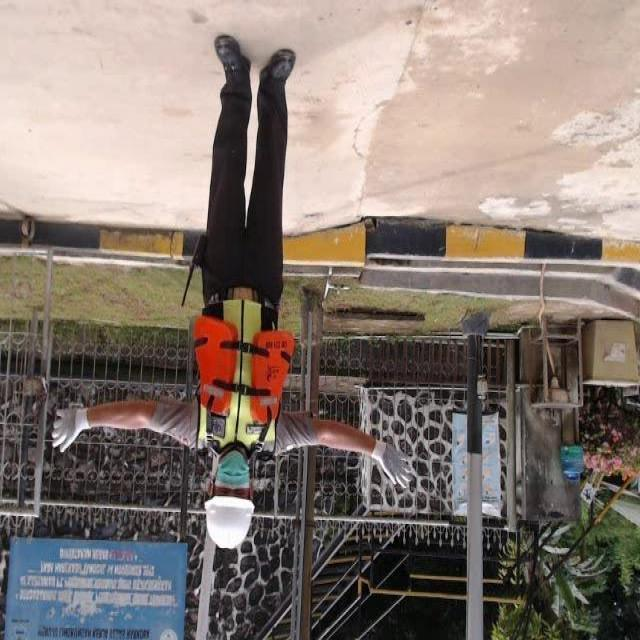Boots: (256, 46, 304, 102), (213, 33, 258, 85)
Gloves: (48, 393, 91, 458), (368, 438, 420, 489)
Helmet: (202, 489, 258, 555)
Vest: (182, 299, 302, 457)
